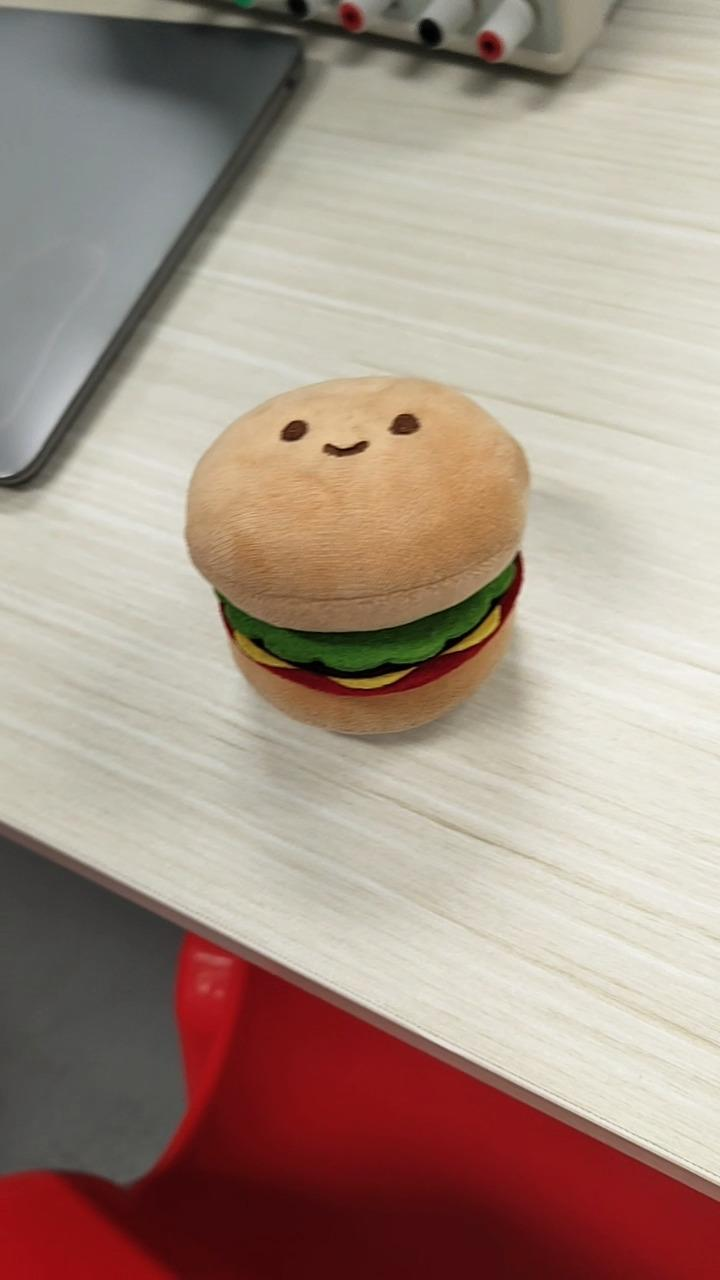hamburger: (183, 373, 530, 737)
